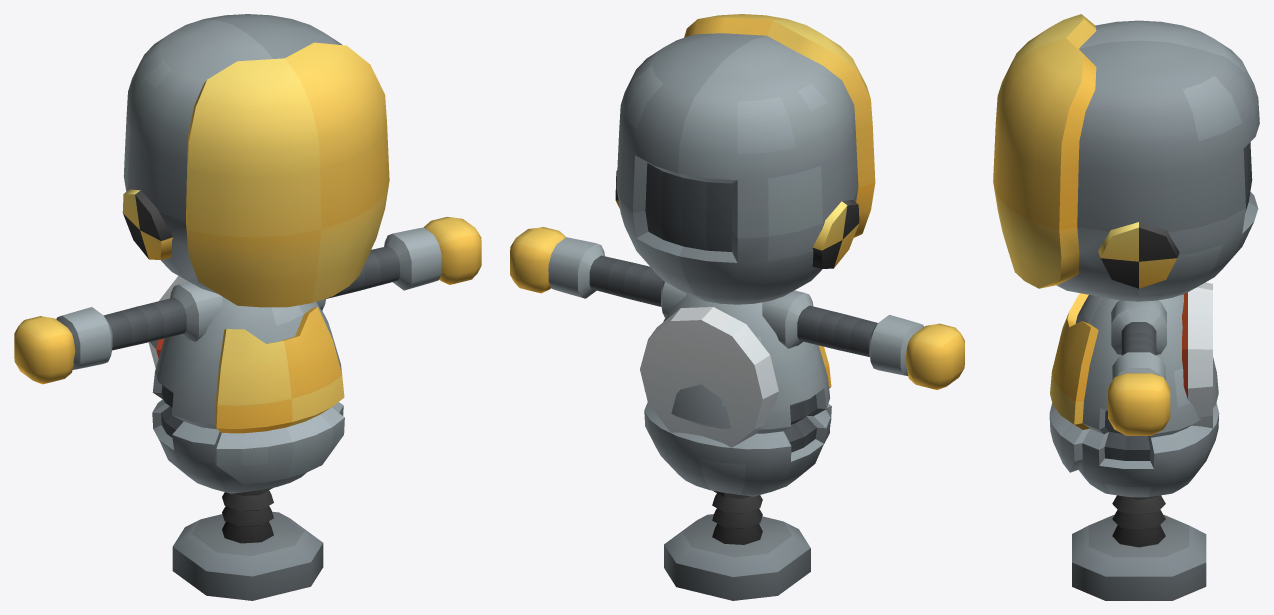
File: Dummy_Base.gltf
3 renders of one model, left to right at view 1: azimuth 30°, elevation 25°; view 2: azimuth 150°, elevation 25°; view 3: azimuth 270°, elevation 25°, orthographic. The views are drawn at different scales.
Visible parts, largest first — view 1: Dummy_Head, Dummy_Body, Dummy_Base, Dummy_ArmRight, Dummy_ArmLeft; view 2: Dummy_Head, Dummy_Body, Dummy_Target, Dummy_Base, Dummy_ArmRight, Dummy_ArmLeft; view 3: Dummy_Head, Dummy_Body, Dummy_Base, Dummy_ArmLeft, Dummy_Target.
Boxes of the visible parts, box(x1,y1,x2,y2) form: Dummy_Head: box(122, 14, 389, 307); Dummy_Body: box(152, 296, 344, 493); Dummy_Base: box(172, 487, 323, 600); Dummy_ArmRight: box(14, 282, 222, 384); Dummy_ArmLeft: box(316, 217, 481, 310); Dummy_Head: box(615, 14, 875, 304); Dummy_Body: box(644, 294, 831, 496); Dummy_Target: box(640, 307, 778, 447); Dummy_Base: box(664, 491, 810, 600); Dummy_ArmRight: box(762, 290, 964, 389); Dummy_ArmLeft: box(510, 227, 686, 318); Dummy_Head: box(993, 14, 1259, 301); Dummy_Body: box(1049, 293, 1219, 497); Dummy_Base: box(1072, 495, 1206, 600); Dummy_ArmLeft: box(1108, 300, 1170, 435); Dummy_Target: box(1182, 282, 1212, 428).
Size of the model in its own units: 1.94 by 2.2 by 0.9934.
Materials: 1 (1 with a texture image).
